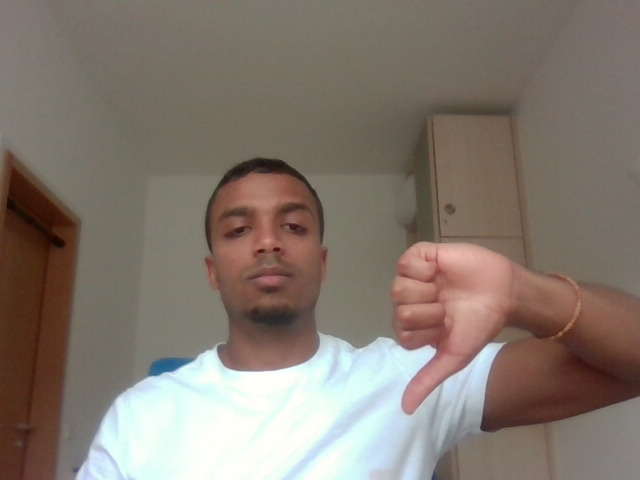no: (373, 220, 534, 424)
